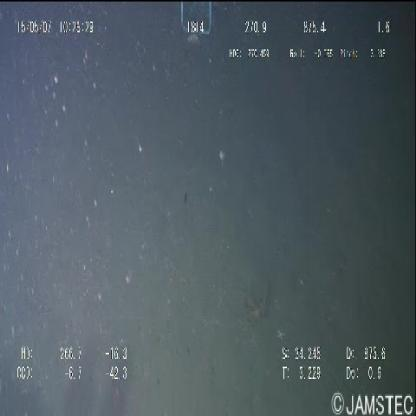Rác: (178, 2, 215, 43)
